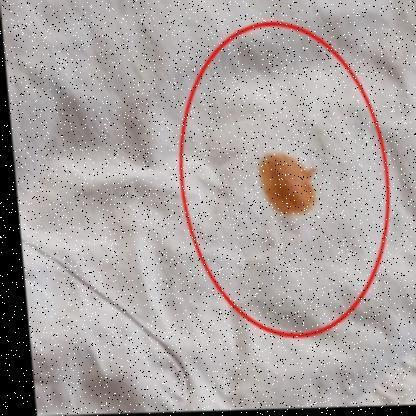kimchi: (246, 138, 325, 232)
